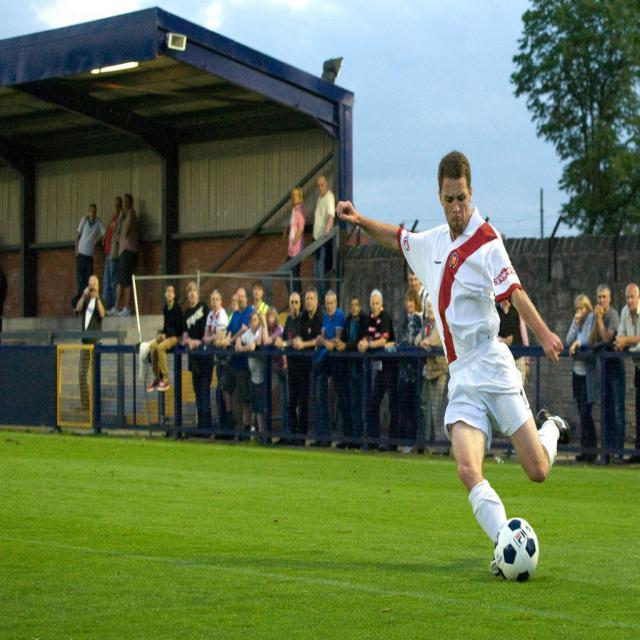ball: (493, 517, 541, 580)
